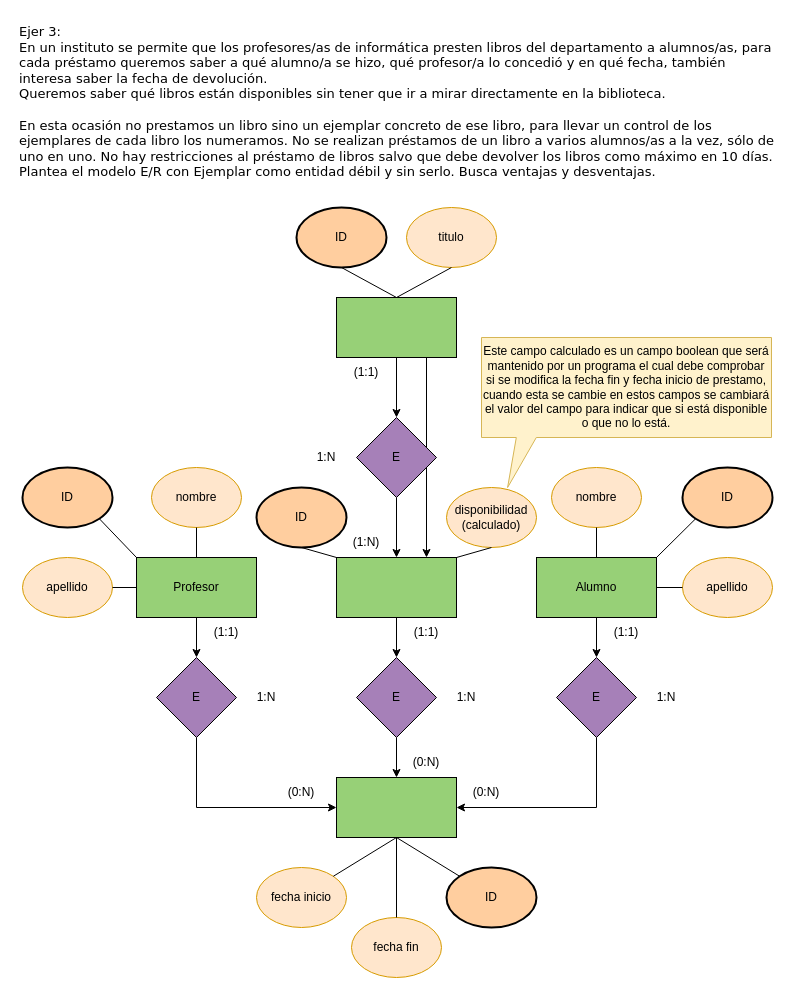
Some shapes in this 794 by 995 pixel diagram are drawn without their labels. The centre of each missing label's shape, as x and y in pixels:
"Ejemplar" belongs at [396,587].
"Libro" belongs at [396,327].
"Prestamo" belongs at [396,807].
